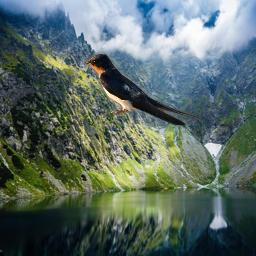Swallow: (80, 50, 202, 128)
